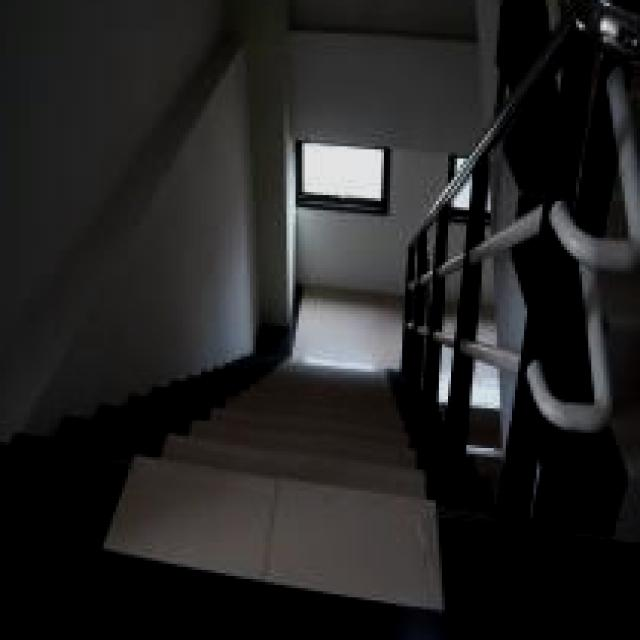downstair: (135, 309, 473, 640)
